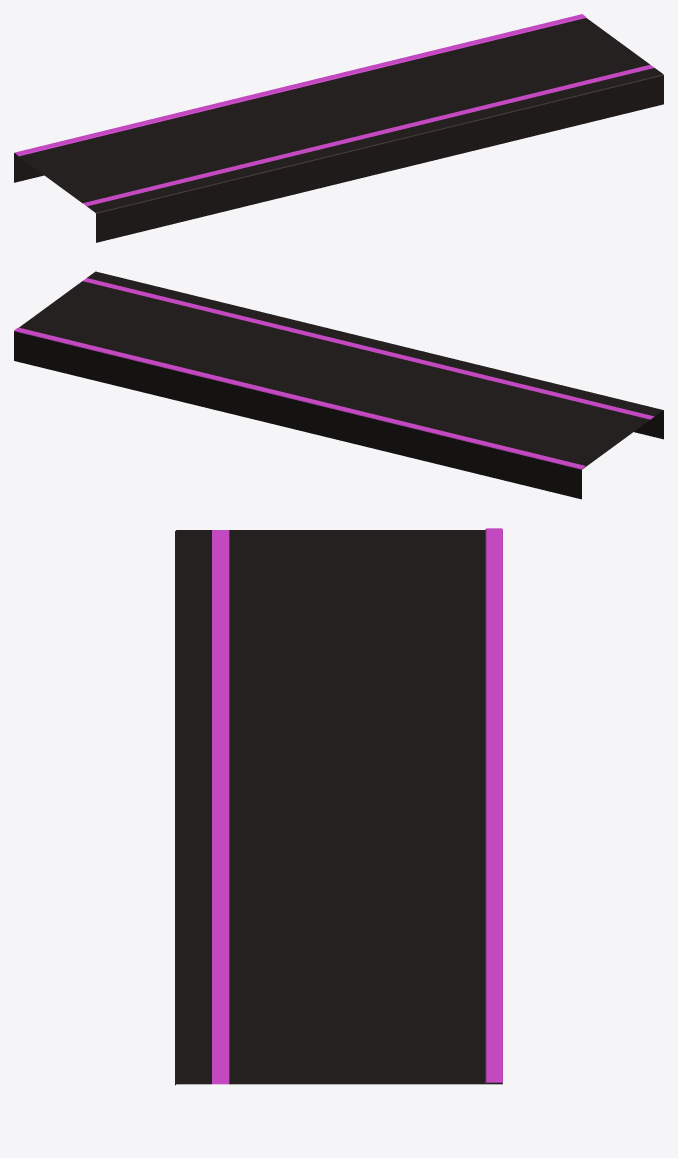
Rendered from W_M_Playground_SideBlock_4_L0.fbx.
3 views of the same model, one above another, from view 1: azimuth 30°, elevation 25°; view 2: azimuth 150°, elevation 25°; view 3: azimuth 270°, elevation 25° (orthographic). The views are drawn at different scales.
Parts seen in each view (by area): view 1: W_M_Playground_SideBlock_4_L0; view 2: W_M_Playground_SideBlock_4_L0; view 3: W_M_Playground_SideBlock_4_L0.
Boxes of the visible parts, left/top/right/bottom form: W_M_Playground_SideBlock_4_L0: left=14, top=14, right=663, bottom=242; W_M_Playground_SideBlock_4_L0: left=14, top=271, right=663, bottom=499; W_M_Playground_SideBlock_4_L0: left=175, top=528, right=502, bottom=1085.
Size of the model in its own units: 4 by 0.205 by 1.
